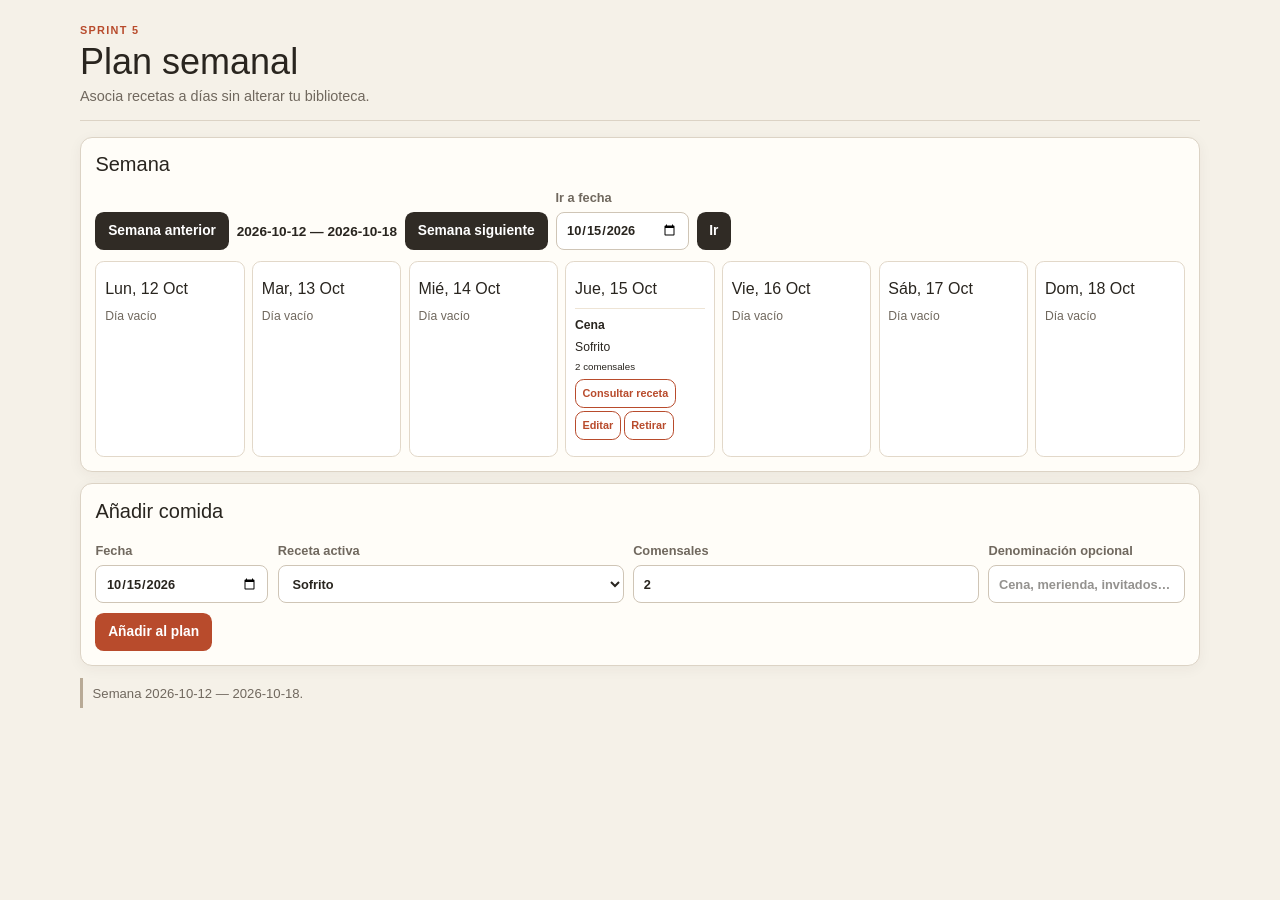
Test: Mambo › shows settings within the planning step, not another numbered item
Click the button "Consultar receta" at (625, 393), box [575,379,676,408]
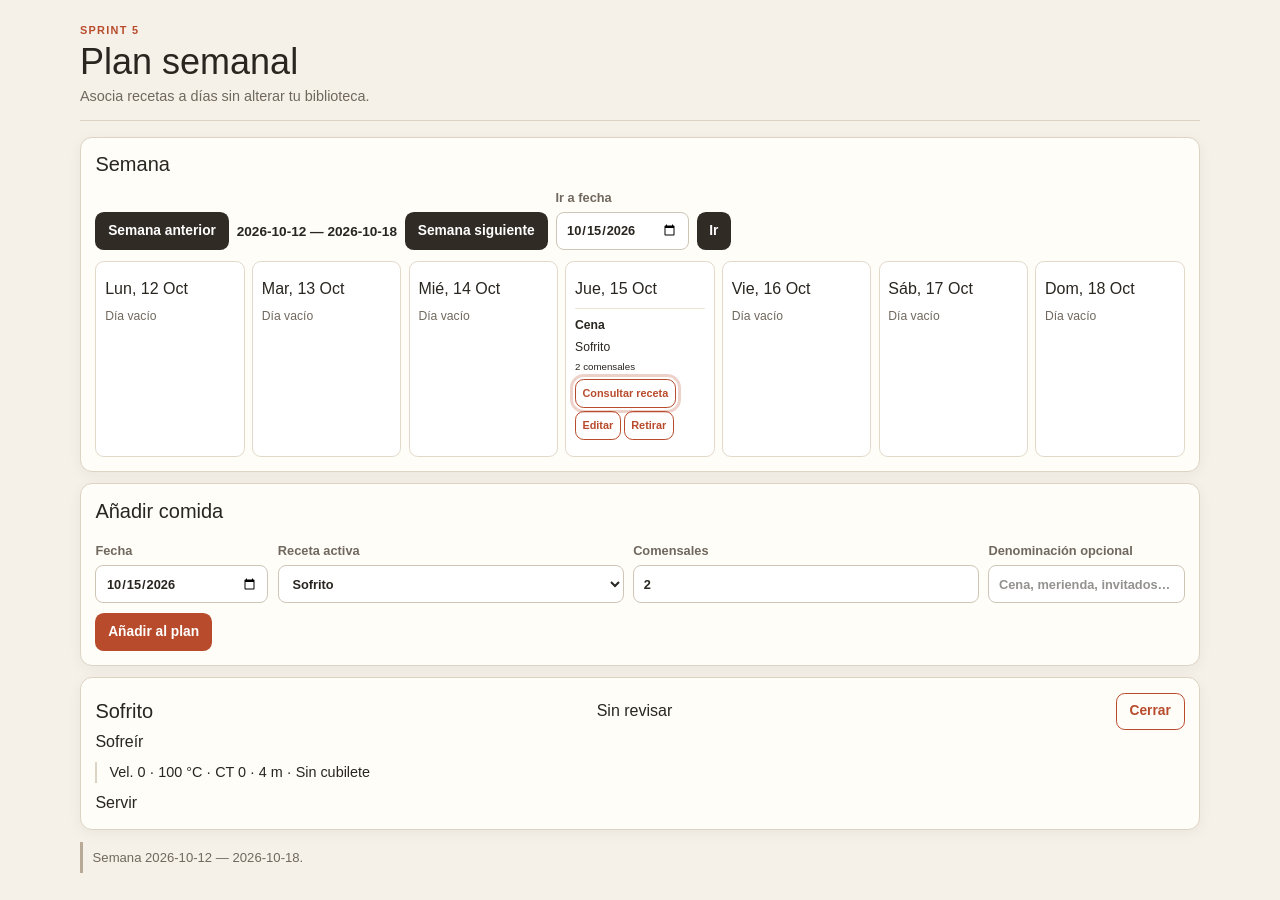
Check: the text "Vel. 0 · 100 °C · CT 0 · 4 m · Sin cubilete" is shown, box [109,764,370,780]
